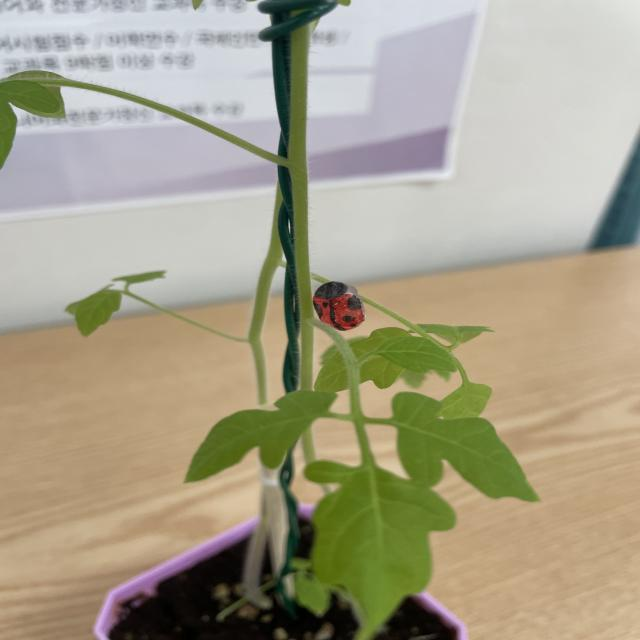bug: (292, 267, 377, 336)
